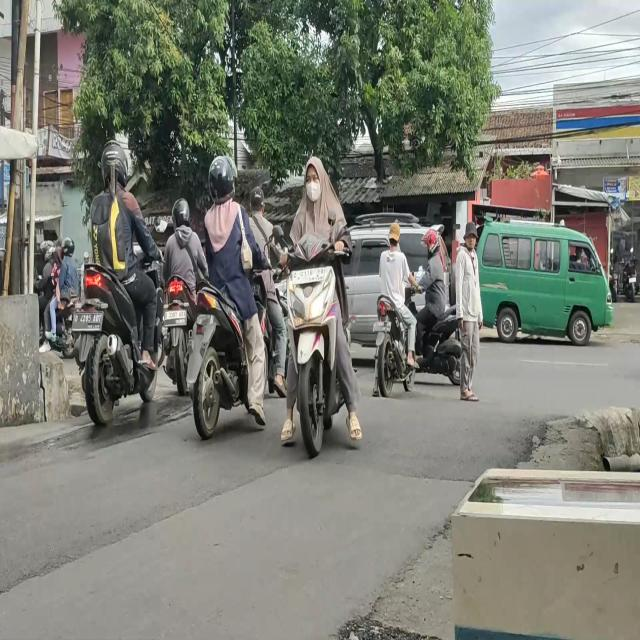helmet: (208, 154, 237, 209), (100, 142, 131, 192), (422, 229, 444, 261), (170, 192, 191, 225), (39, 240, 54, 262), (63, 239, 73, 257)
no-helmet: (303, 155, 328, 200), (248, 185, 266, 215), (387, 223, 400, 250), (55, 249, 62, 265)
